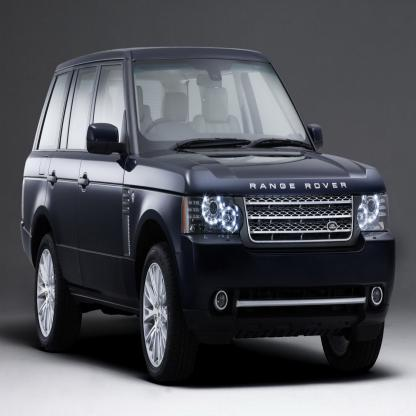Vehicle: (19, 44, 394, 385)
